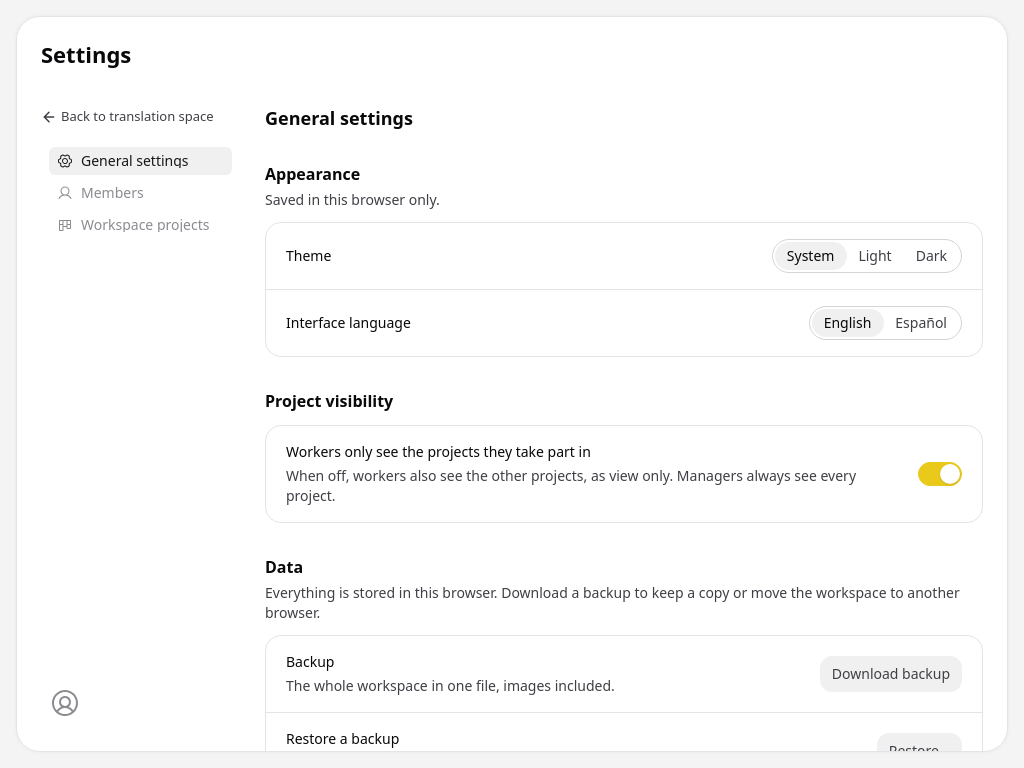
Settings > General › changes the theme and the interface language
expect the heading "General settings" is shown: met, box [265,106,413,130]
Click the radio button labelled "Dark": (931, 256) [904,242,959,270]
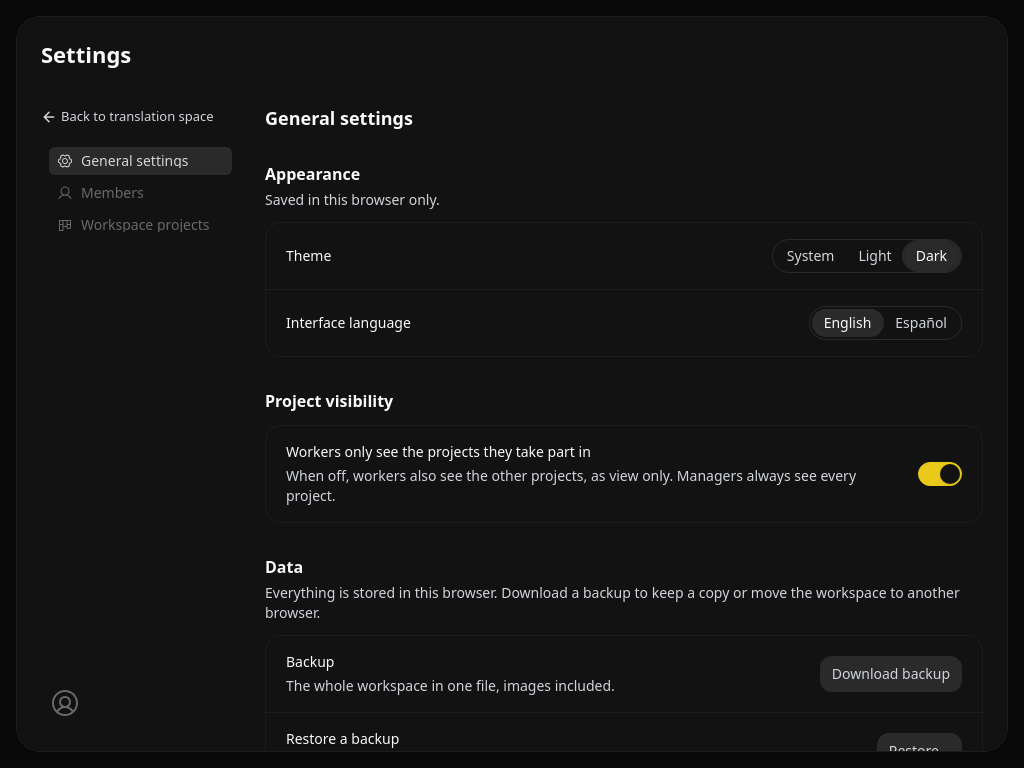
Click the radio button labelled "Light": (875, 256) [846,242,904,270]
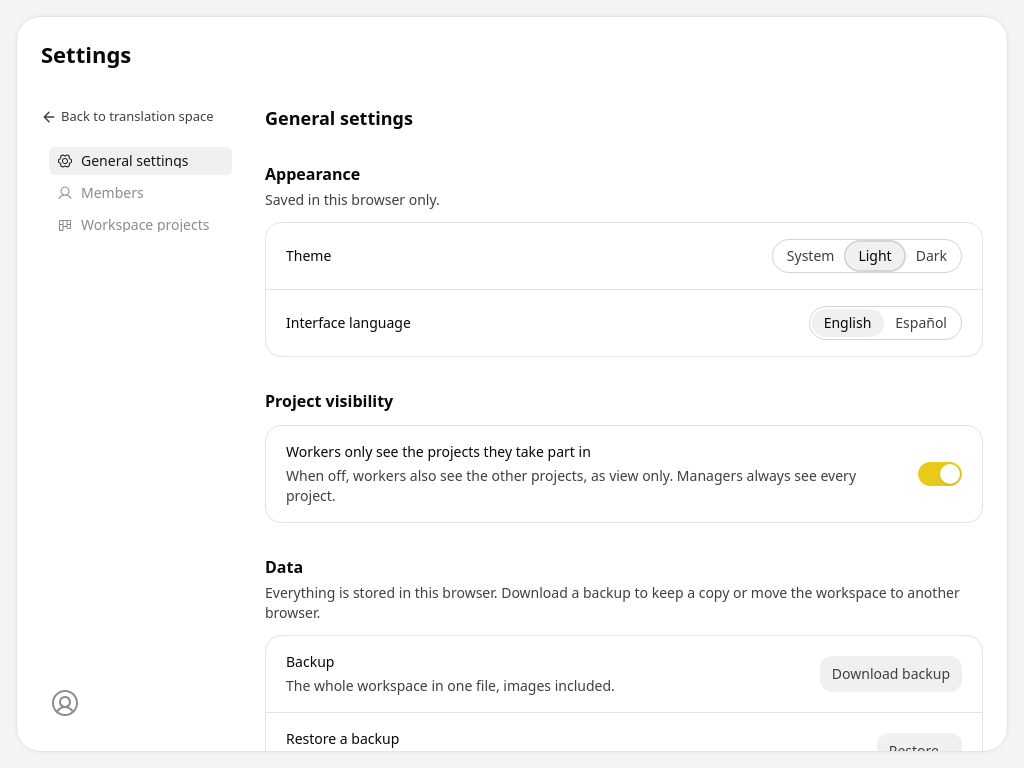
Click the radio button labelled "Español": (921, 322) [883,308,959,336]
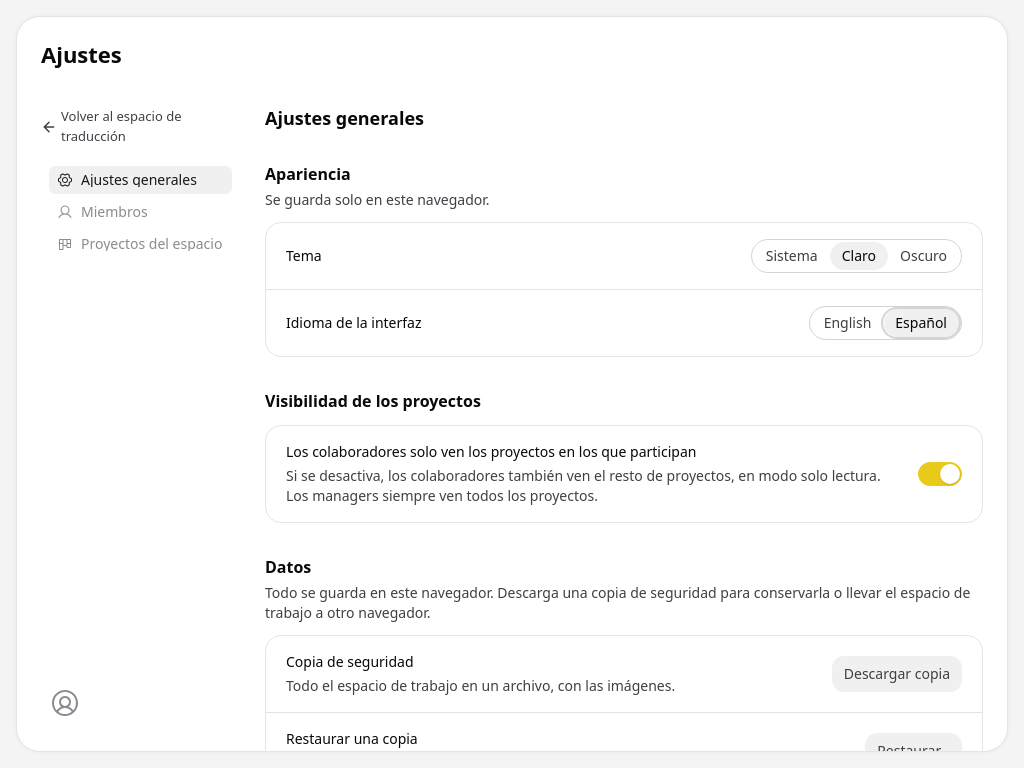
expect the heading "Ajustes generales" is shown: met, box [265,106,424,130]
